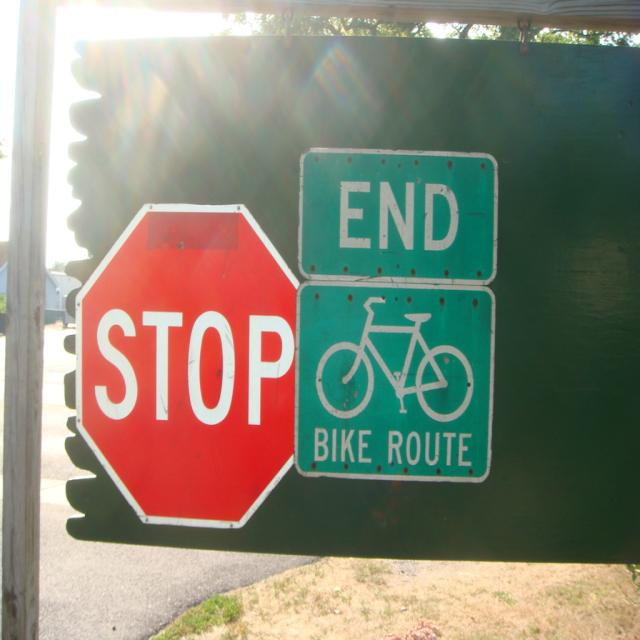Stop-sign: (76, 202, 294, 531)
